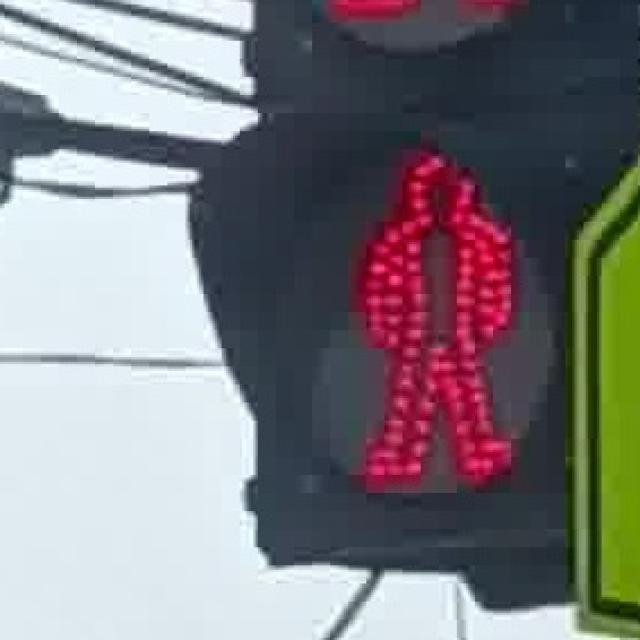red-crossing: (332, 126, 532, 494)
